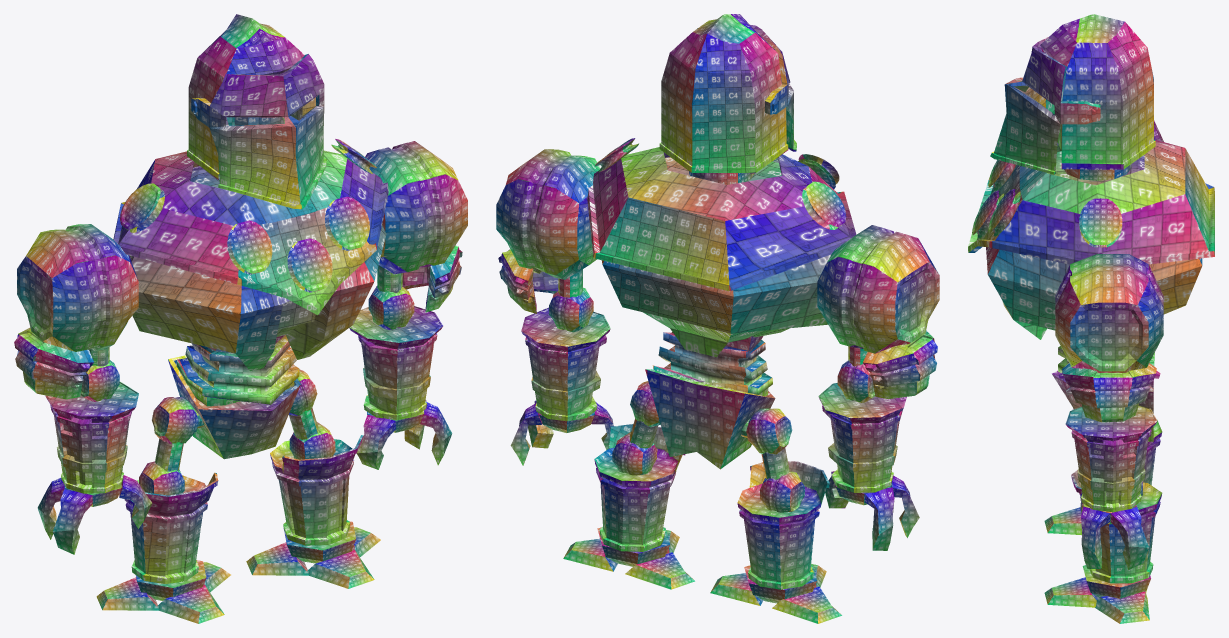
File: robot-9.fbx
3 views of the same model, side by side, from view 1: azimuth 30°, elevation 25°; view 2: azimuth 150°, elevation 25°; view 3: azimuth 270°, elevation 25° (orthographic). The views are drawn at different scales.
Visible parts, largest first — view 1: polySurface44, polySurface47, polySurface80, polySurface91, polySurface72, polySurface24, polySurface107, polySurface81, polySurface23, polySurface109, polySurface17, polySurface98 (+25 smaller); view 2: polySurface44, polySurface81, polySurface47, polySurface91, polySurface72, polySurface98, polySurface109, polySurface24, polySurface23, polySurface107, polySurface17, polySurface74 (+20 smaller); view 3: polySurface44, polySurface81, polySurface72, polySurface80, polySurface47, polySurface24, polySurface73, polySurface23, pSphere2, polySurface106, polySurface110, polySurface105 (+9 smaller).
Part boxes in pixels (box(x1,y1,x2,y2)): polySurface44: box(113, 150, 388, 315); polySurface47: box(129, 166, 386, 371); polySurface80: box(191, 54, 326, 209); polySurface91: box(17, 224, 138, 351); polySurface72: box(365, 141, 467, 274); polySurface24: box(349, 306, 442, 419); polySurface107: box(45, 381, 138, 493); polySurface81: box(187, 14, 315, 179); polySurface23: box(270, 435, 363, 545); polySurface109: box(124, 472, 218, 583); polySurface17: box(176, 335, 299, 406); polySurface98: box(168, 355, 300, 459); polySurface44: box(587, 147, 856, 291); polySurface81: box(659, 14, 788, 173); polySurface47: box(601, 157, 831, 357); polySurface91: box(817, 225, 939, 353); polySurface72: box(496, 149, 600, 279); polySurface98: box(645, 369, 775, 469); polySurface109: box(737, 461, 829, 589); polySurface24: box(521, 307, 610, 421); polySurface23: box(594, 424, 685, 551); polySurface107: box(818, 383, 906, 492); polySurface17: box(652, 332, 772, 396); polySurface74: box(862, 330, 937, 398); polySurface44: box(968, 139, 1214, 264); polySurface81: box(1040, 14, 1155, 169); polySurface72: box(1055, 254, 1163, 372); polySurface80: box(990, 37, 1100, 174); polySurface47: box(986, 151, 1202, 339); polySurface24: box(1065, 405, 1157, 512); polySurface73: box(1058, 363, 1160, 422); polySurface23: box(1071, 470, 1162, 583); pSphere2: box(1079, 198, 1122, 247); polySurface106: box(1110, 507, 1148, 569); polySurface110: box(1095, 591, 1149, 623); polySurface105: box(1081, 506, 1109, 568).
Size of the model in its own units: 15.6 by 19.81 by 8.09.
1 material, 1 textured.
